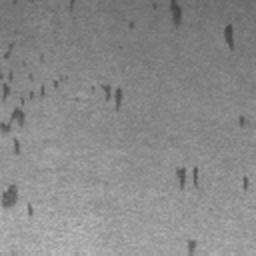Red iron sheet: (0, 41, 60, 216), (127, 0, 183, 31), (100, 81, 124, 111), (175, 164, 200, 191), (224, 22, 236, 51), (188, 239, 197, 256), (68, 0, 77, 14), (238, 114, 246, 127), (242, 174, 248, 191)
